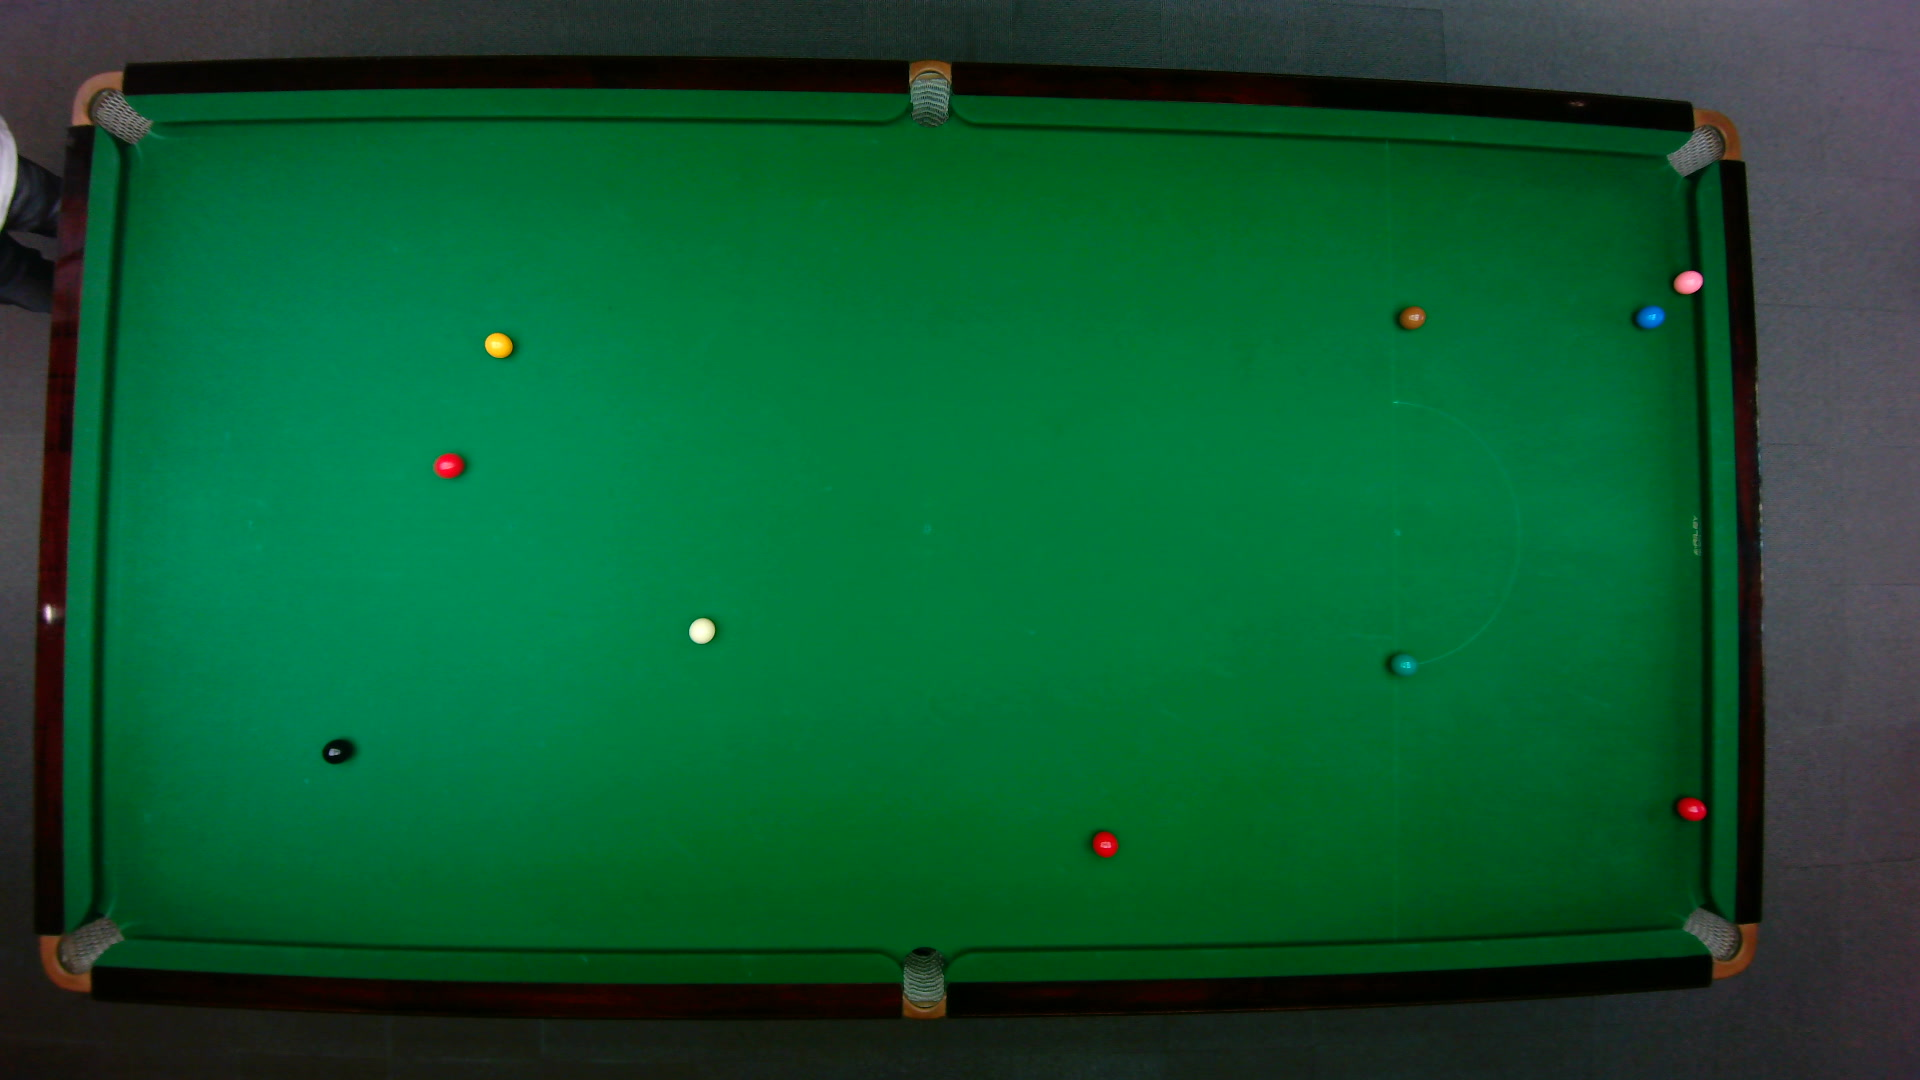bag: (37, 914, 125, 992), (69, 69, 152, 145), (1677, 905, 1756, 978), (1663, 107, 1741, 177), (901, 944, 944, 1021), (909, 57, 949, 128)
black: (320, 736, 352, 765)
blue: (1634, 303, 1665, 328)
brown: (1396, 305, 1427, 328)
green: (1389, 650, 1418, 676)
pink: (1669, 266, 1704, 295)
red: (433, 450, 465, 479), (1089, 828, 1120, 858), (1673, 795, 1706, 822)
white: (686, 615, 716, 645)
yellow: (481, 328, 513, 357)
zone: (1390, 400, 1520, 669)
